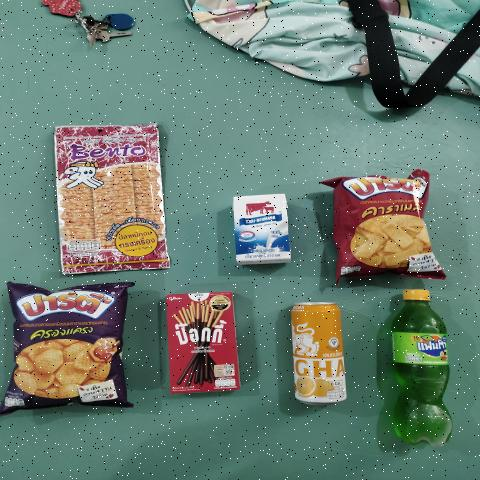bento_red: (66, 130, 152, 274)
fanta_green: (388, 288, 452, 450)
party_purple: (8, 285, 129, 409)
party_red: (341, 180, 421, 279)
pokki: (170, 295, 236, 395)
singha_yellow: (296, 304, 339, 407)
thai_denmark: (234, 194, 291, 266)
